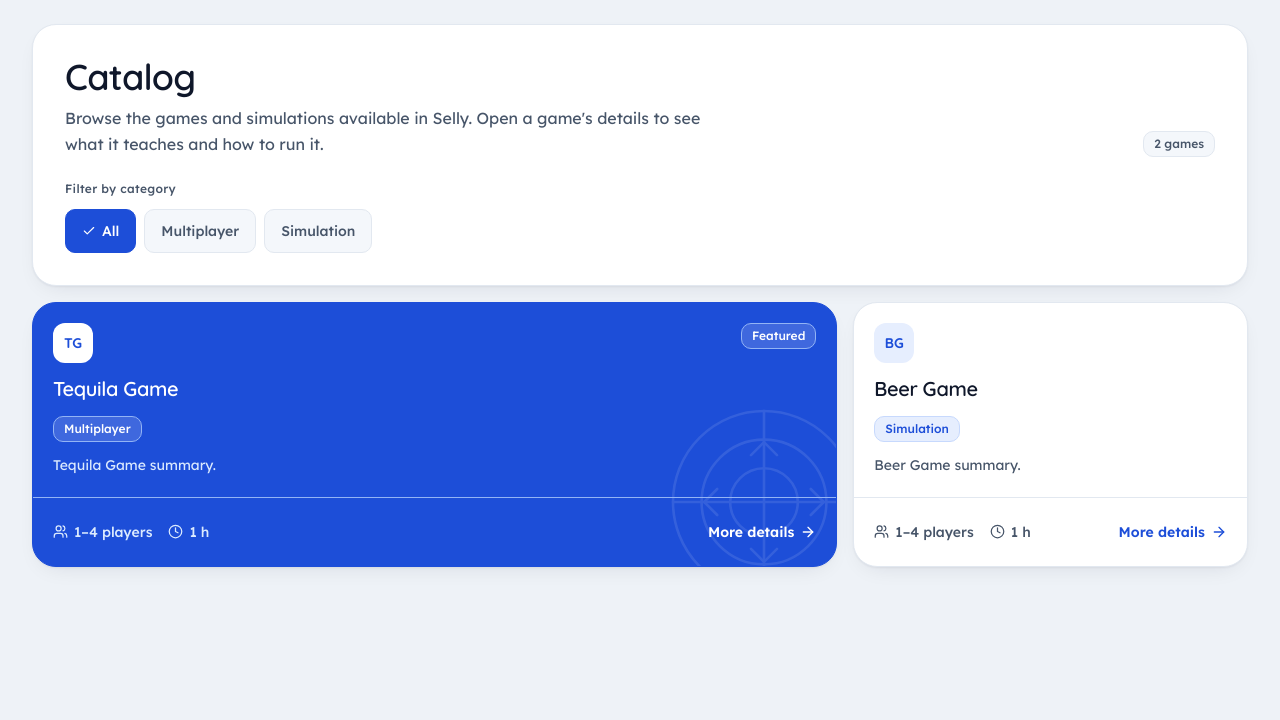
Catalog page › accents only the game an administrator featured
Expected: the heading "Tequila Game" is shown, [53,376,178,401]
Expected: the text "Featured" is shown, [741,323,816,349]
Filtering the featured game out must not hand its accent to another entry.
Click the button "Simulation" at x=318, y=231, box [264,209,372,253]
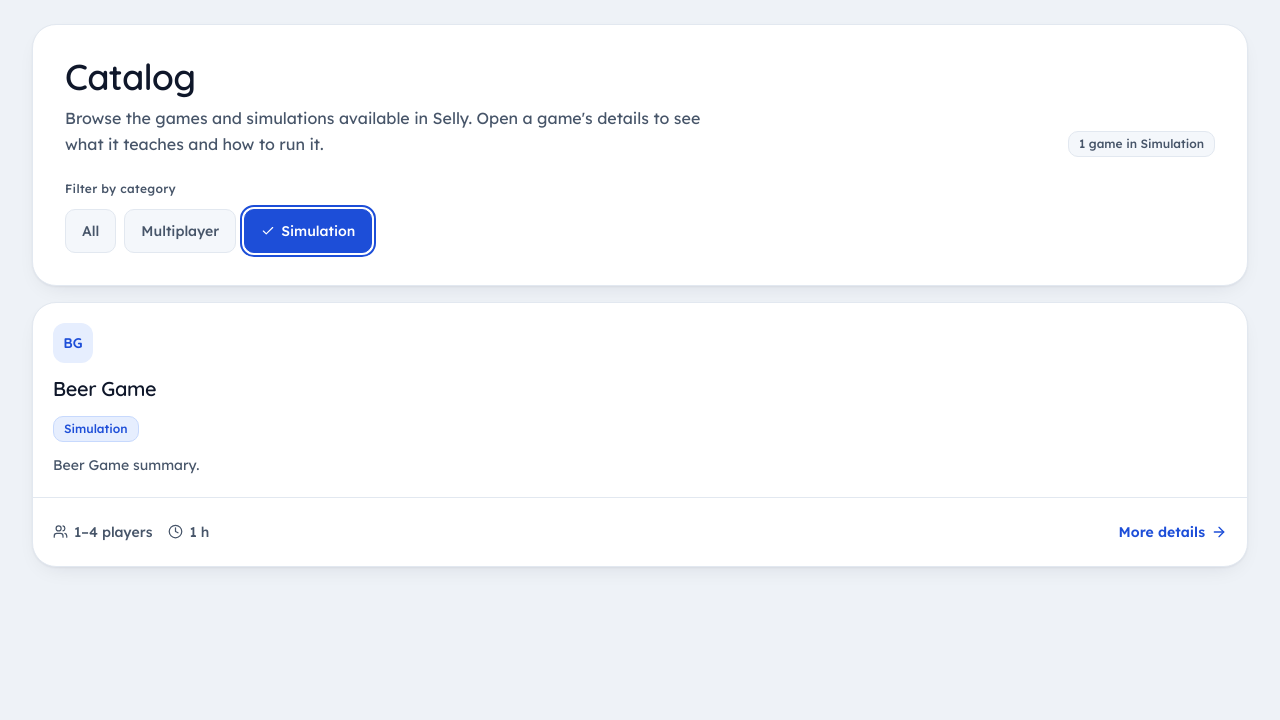
Expected: the text "Featured" is gone
